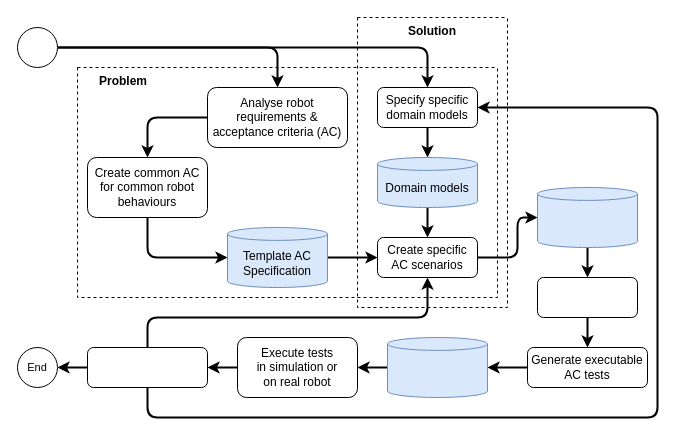
Image size: 684x444. Some labels were removed from this diagram. Here are the shapes that lost their labels. From the top down, the centre of each, then its label:
[37,47]: Start
[587,217]: Domain-specific AC Specification
[587,297]: Introduce variations
[147,367]: Verify/validate AC
[437,367]: Executable AC tests
